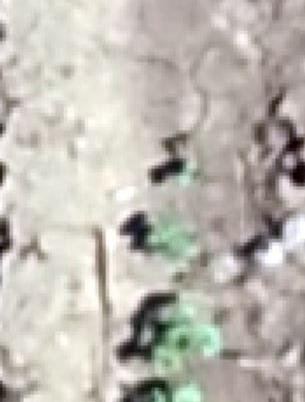cotton: (151, 219, 187, 248), (165, 321, 197, 345), (156, 338, 180, 364), (195, 329, 217, 352), (166, 234, 192, 253), (173, 385, 201, 402), (178, 164, 198, 180)
